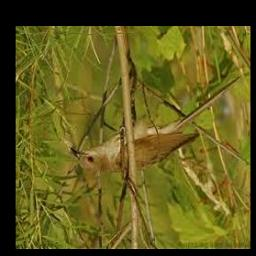Cuckoo: (71, 76, 242, 172)
